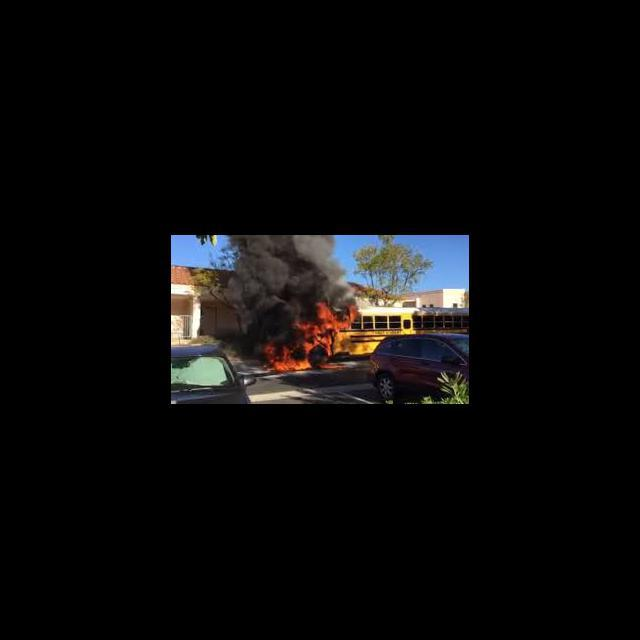Fire: (264, 302, 358, 371)
Smoke: (224, 236, 346, 302)
